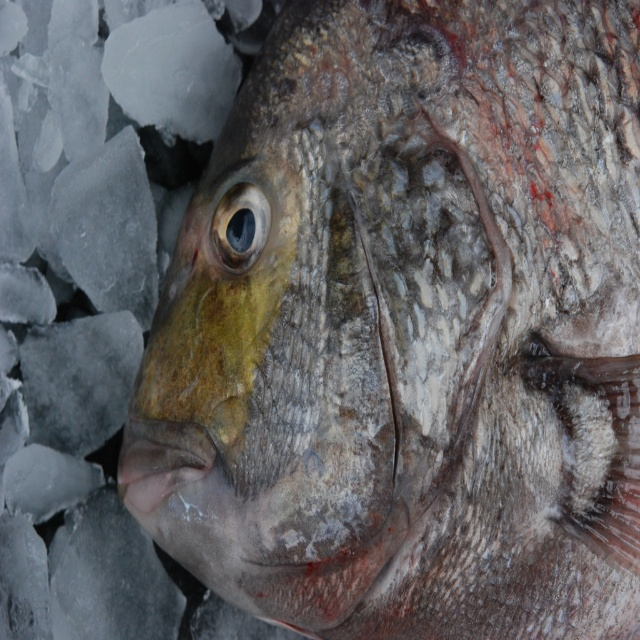Fish: (114, 0, 640, 639)
